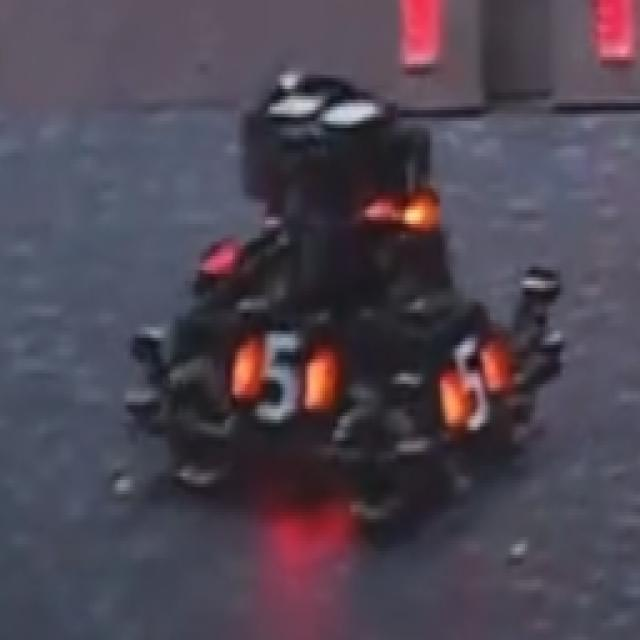R5: (232, 329, 340, 426), (438, 334, 508, 438)
